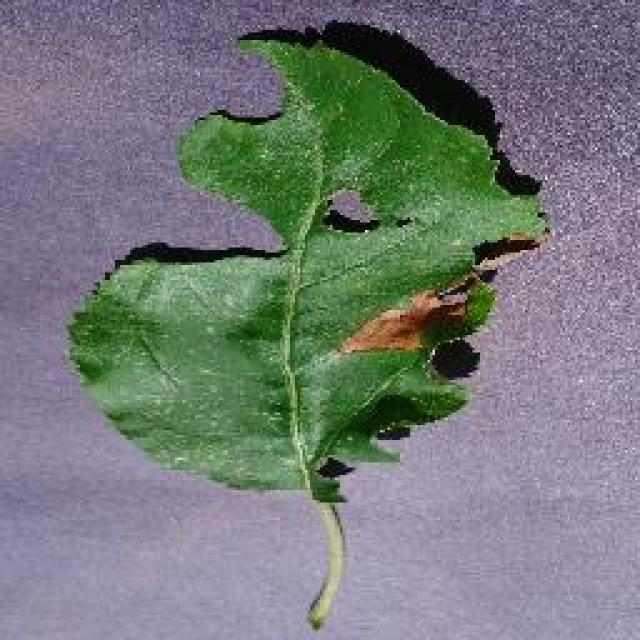black_rot: (314, 279, 485, 361)
